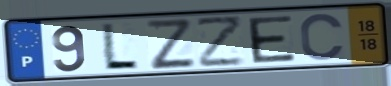9: (51, 24, 87, 73)
C: (298, 11, 347, 63)
E: (245, 14, 298, 65)
L: (100, 21, 141, 70)
Z: (143, 18, 199, 71), (194, 14, 246, 69)
